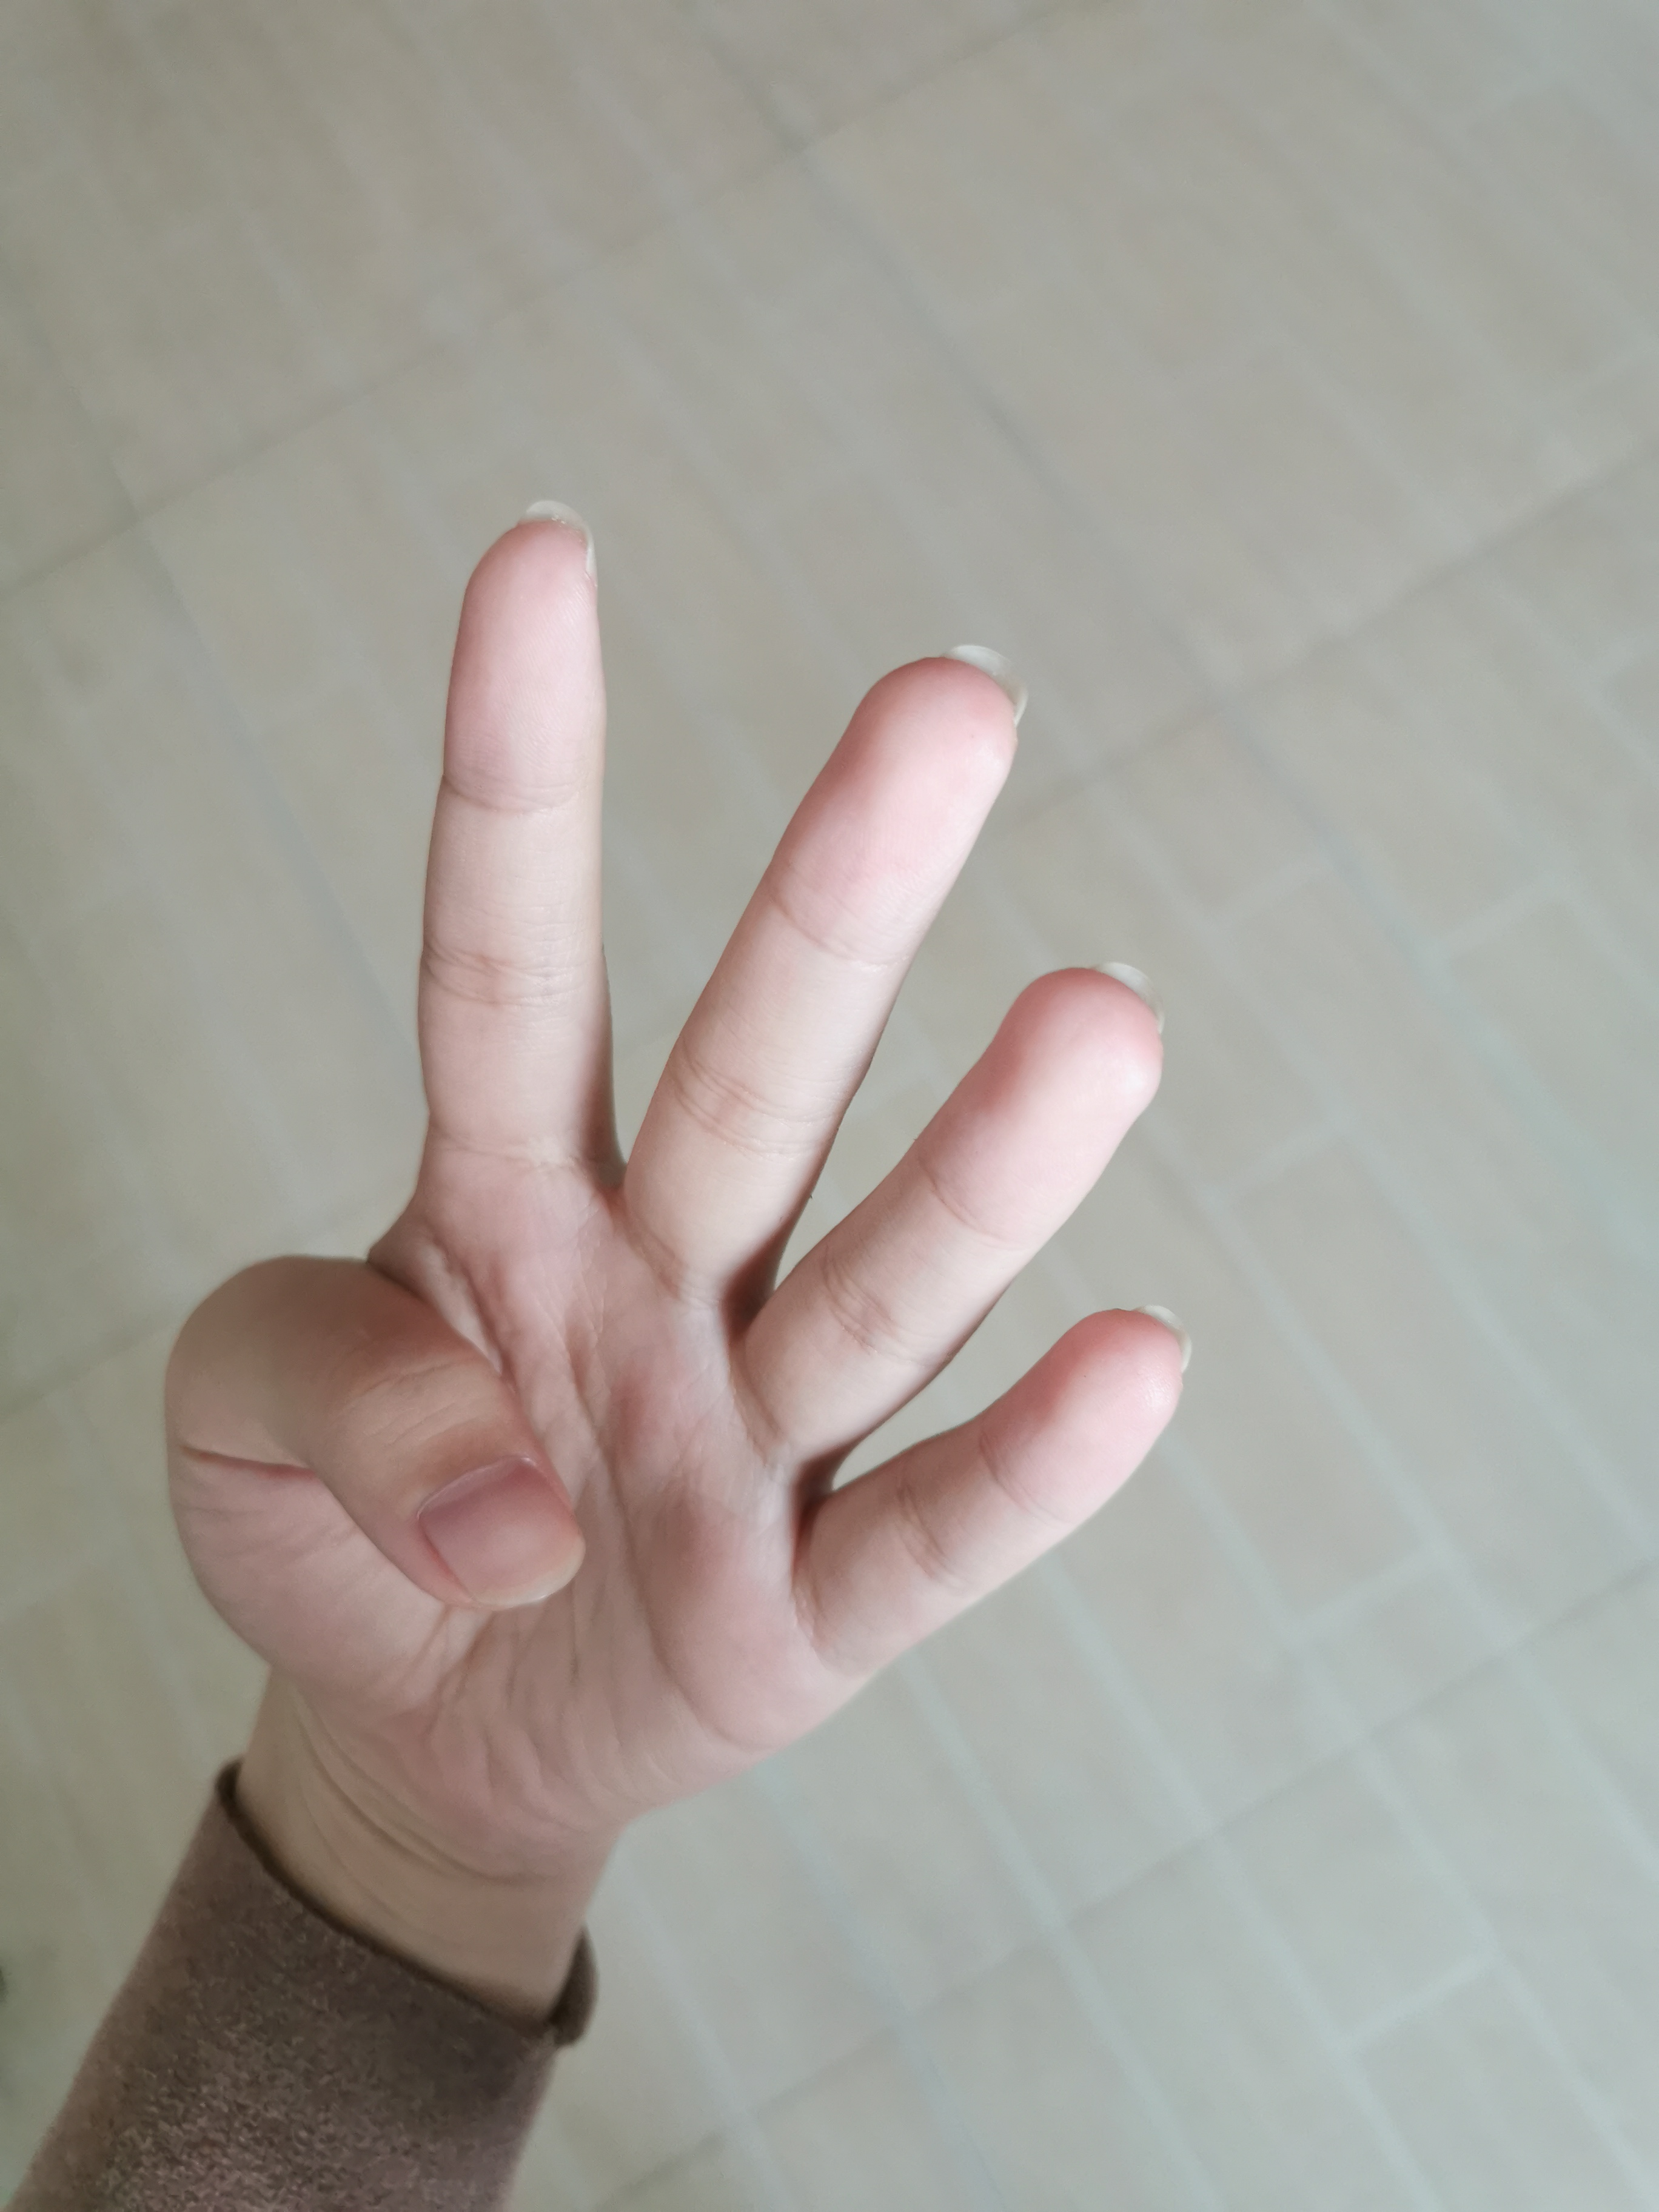right: (153, 489, 1218, 1862)
